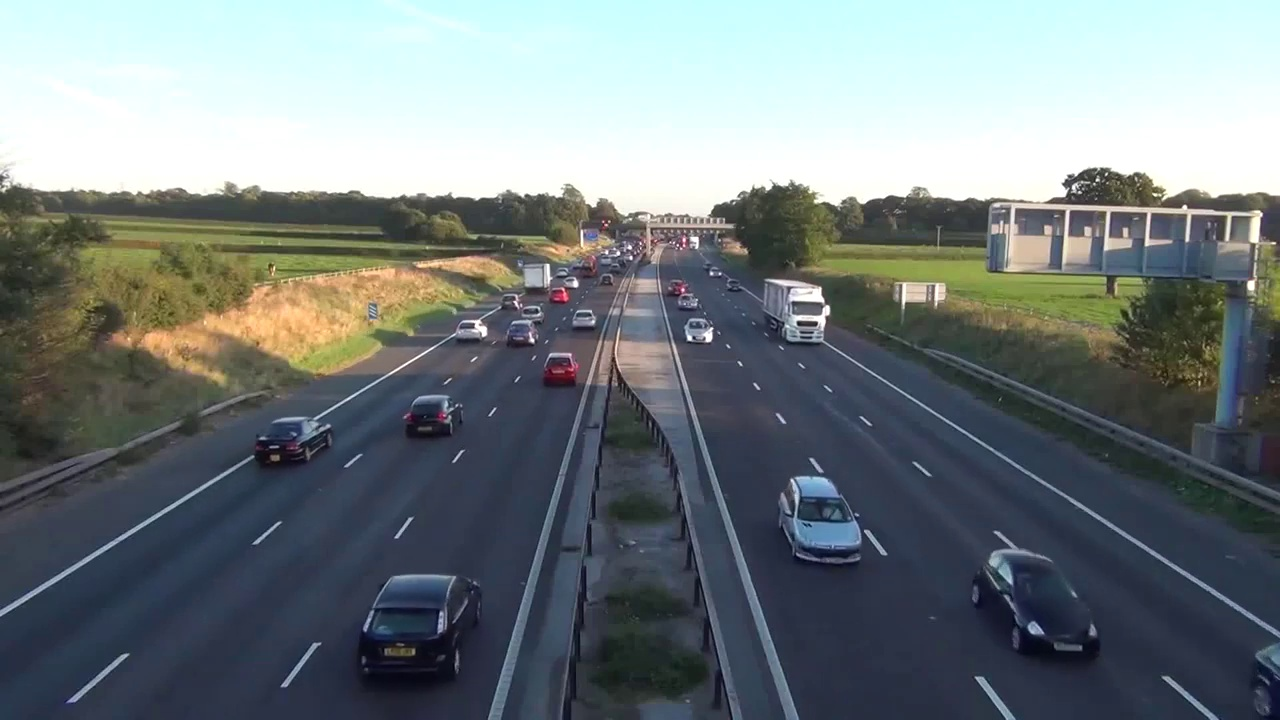bus: (971, 549, 1100, 656), (359, 573, 482, 684), (777, 475, 862, 564), (255, 416, 333, 462), (402, 394, 464, 436), (1250, 642, 1280, 717), (543, 352, 578, 386), (506, 319, 539, 345), (684, 318, 714, 343), (456, 319, 488, 341), (572, 309, 597, 329), (521, 306, 544, 324), (678, 292, 699, 309), (666, 279, 688, 295), (502, 293, 523, 309), (550, 287, 568, 303), (725, 278, 740, 291), (562, 277, 579, 288), (709, 266, 722, 278), (600, 274, 613, 285)
car: (763, 278, 831, 343), (523, 263, 552, 294)
